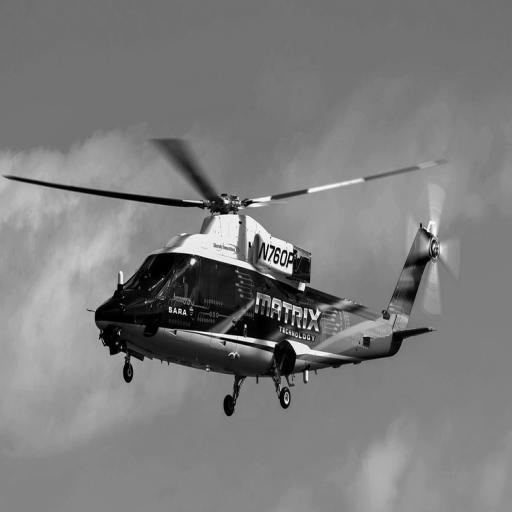helicopter: (2, 136, 464, 418)
